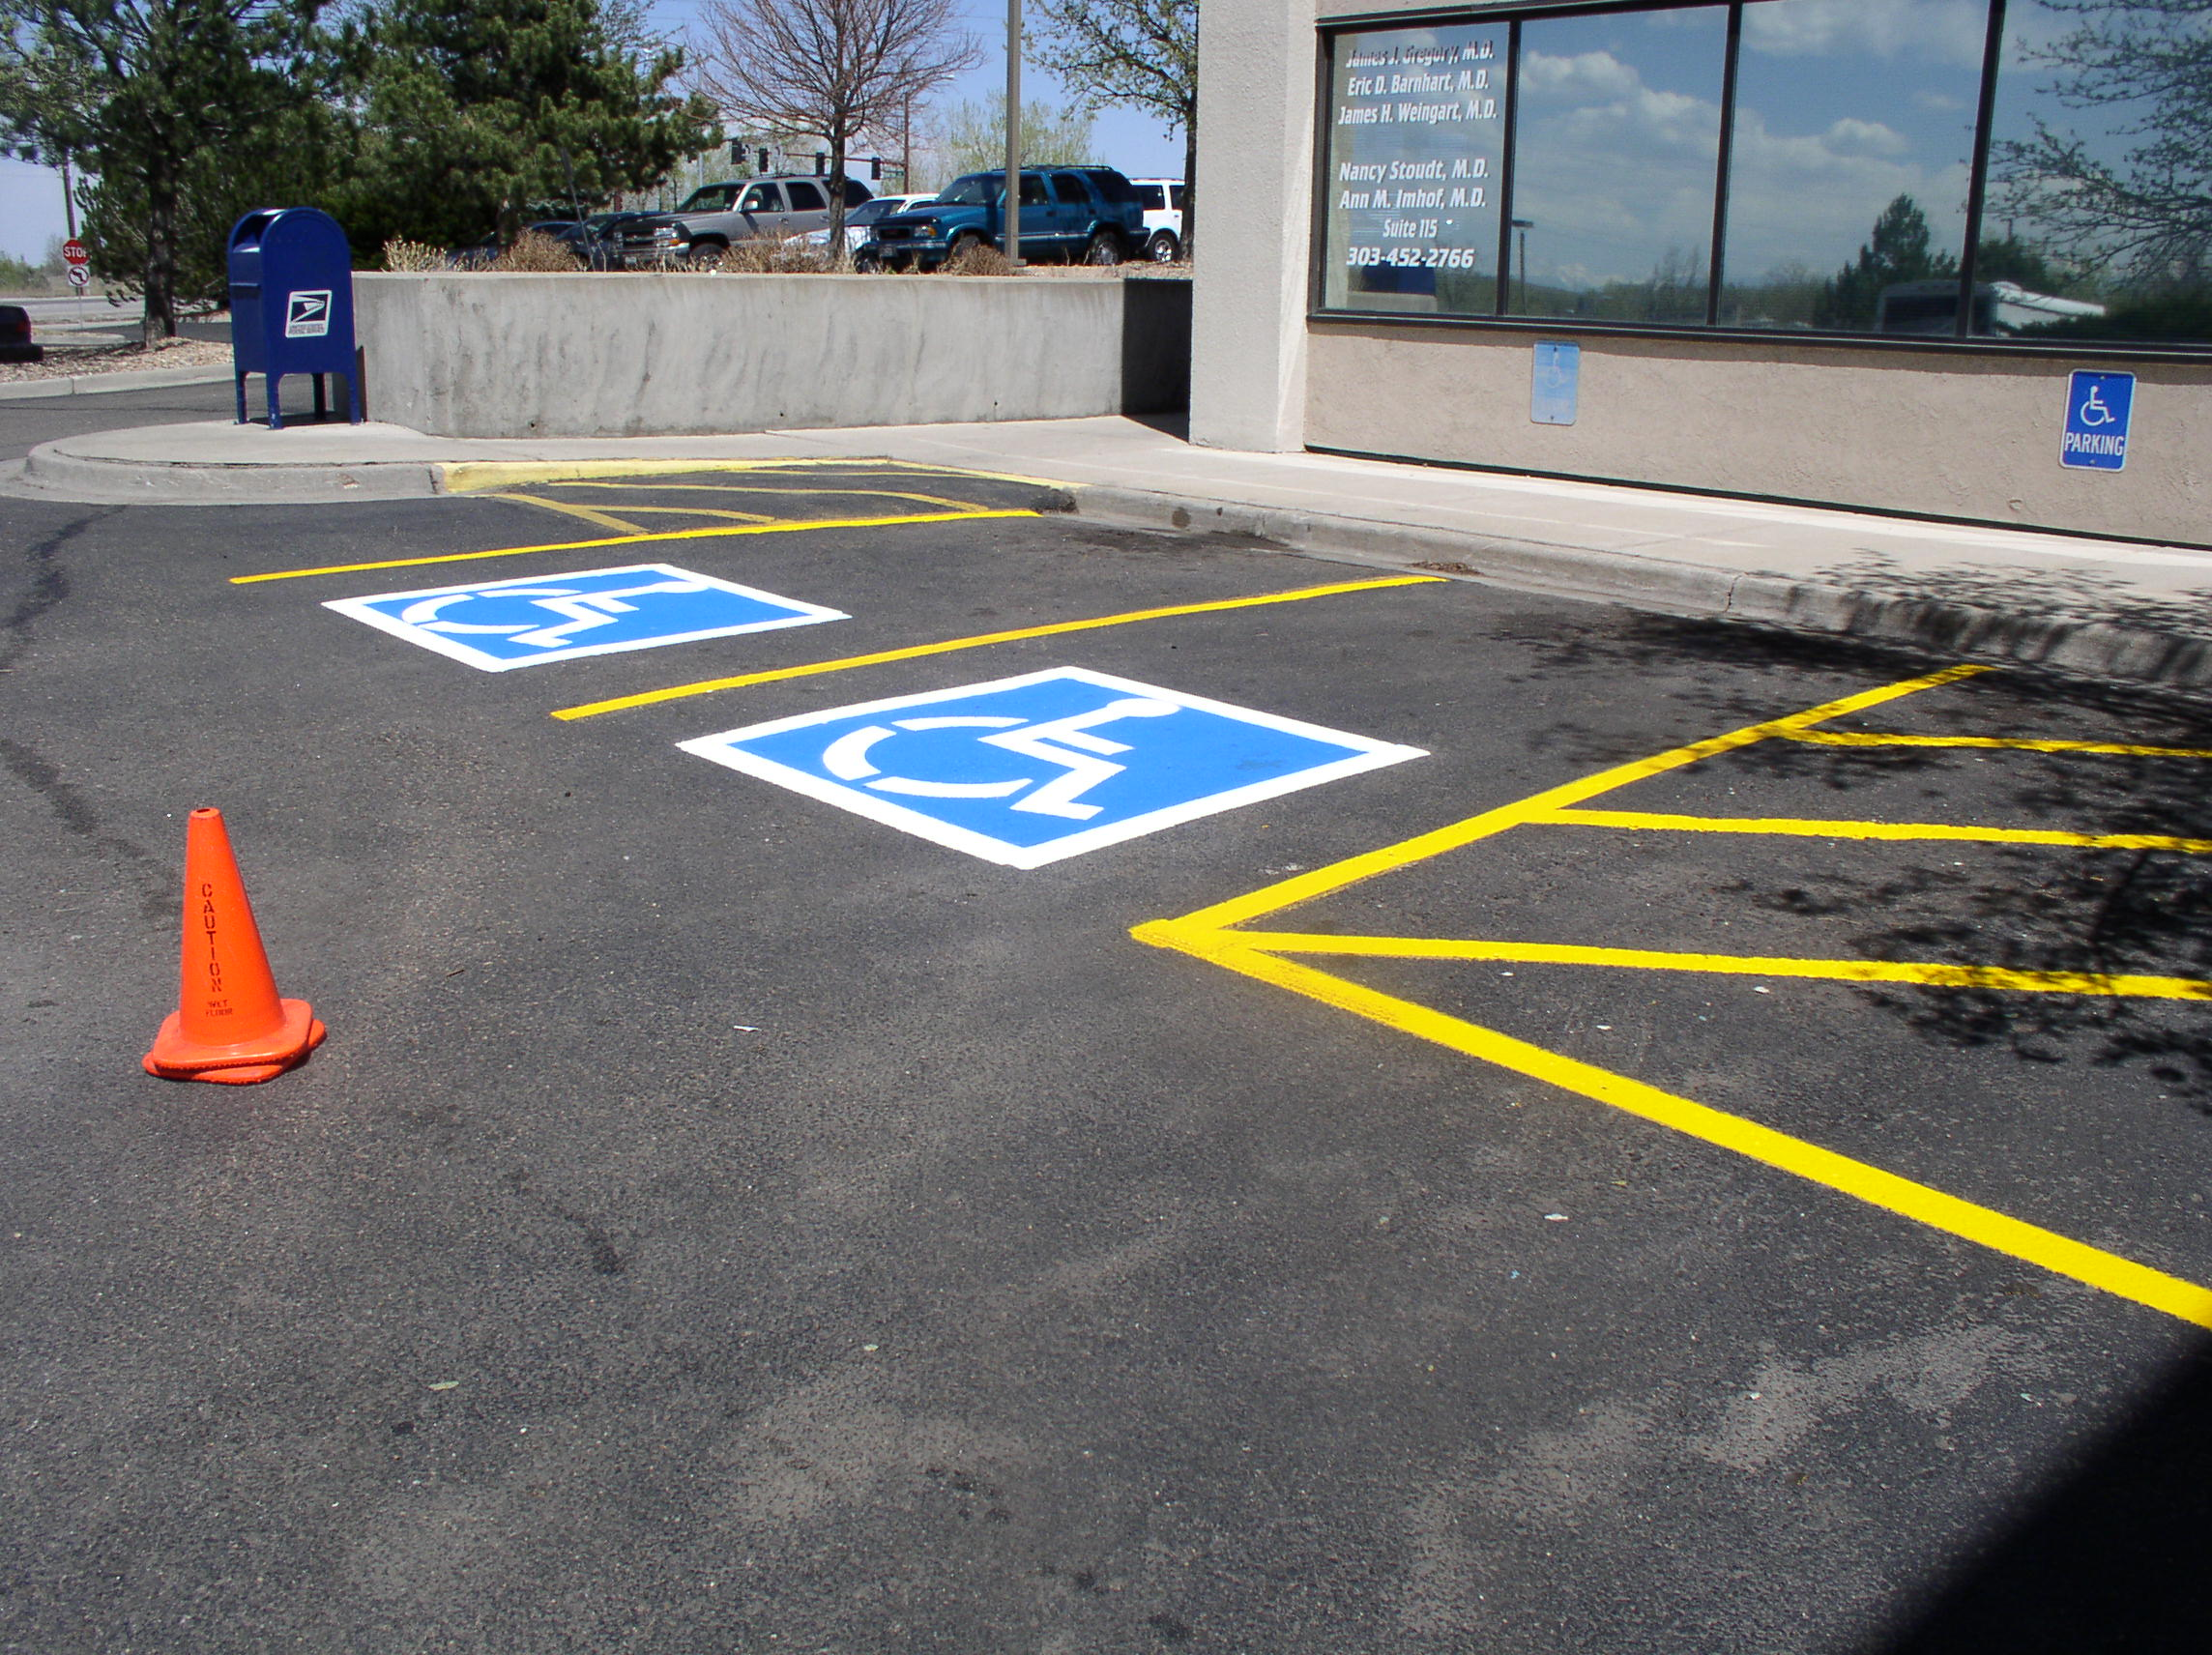empyt_space: (544, 562, 2000, 946), (210, 499, 1462, 727)
